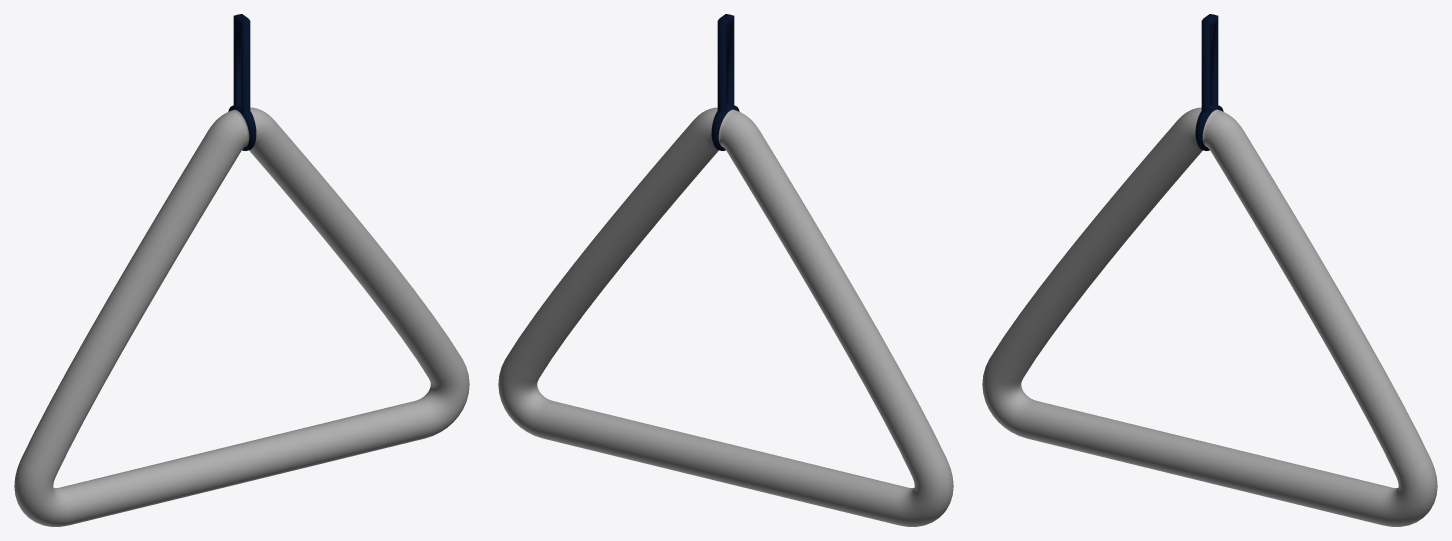
File: triangle.fbx
3 views of the same model, side by side, from view 1: azimuth 30°, elevation 25°; view 2: azimuth 150°, elevation 25°; view 3: azimuth 330°, elevation 25° (orthographic).
Visible parts, largest first — view 1: BezierCurve; view 2: BezierCurve; view 3: BezierCurve.
Part boxes in pixels (left/top/right/bottom): BezierCurve: left=14, top=14, right=469, bottom=526; BezierCurve: left=498, top=14, right=953, bottom=526; BezierCurve: left=982, top=14, right=1437, bottom=526.
Size of the model in its own units: 253 by 249 by 23.05.
